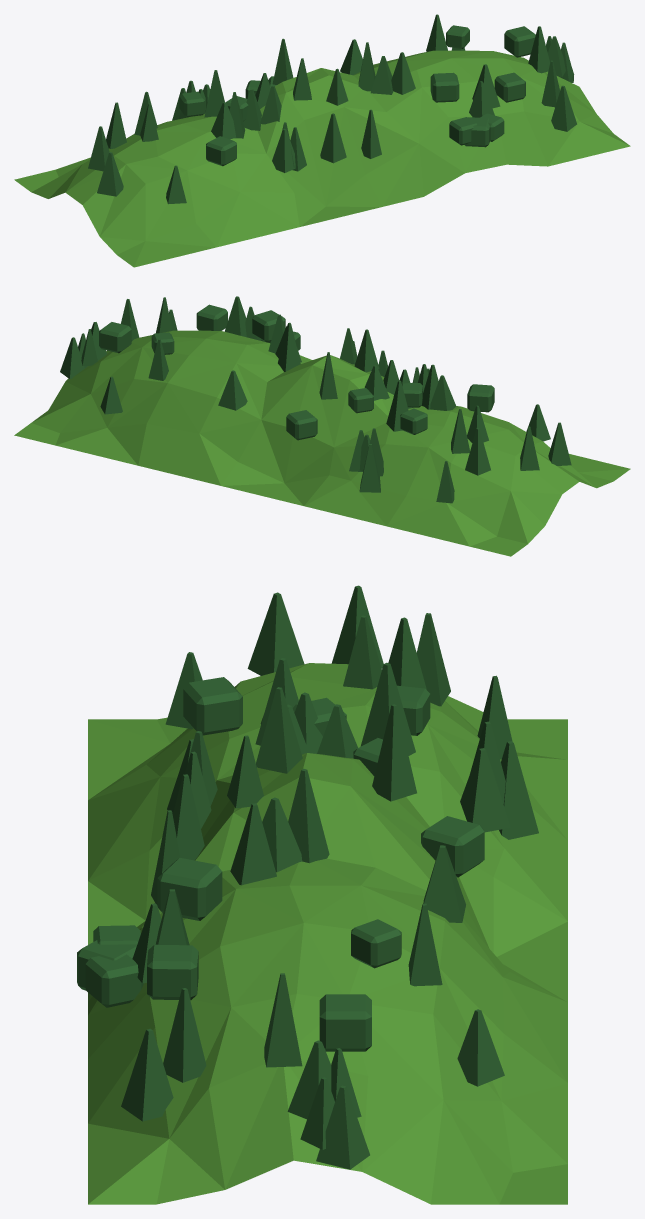
The model's file is Hill2.fbx.
3 renders of one model, top to bottom at view 1: azimuth 30°, elevation 25°; view 2: azimuth 150°, elevation 25°; view 3: azimuth 270°, elevation 25°, orthographic. The views are drawn at different scales.
Parts seen in each view (by area): view 1: Hill, Grove; view 2: Hill, Grove; view 3: Hill, Grove.
Part boxes in pixels (x1,y1,x2,y2): Hill: (14,50,630,267); Grove: (88,14,576,204); Hill: (14,330,630,556); Grove: (60,296,571,503); Hill: (88,663,567,1204); Grove: (77,585,538,1169).
Size of the model in its own units: 112 by 25.61 by 47.06.
